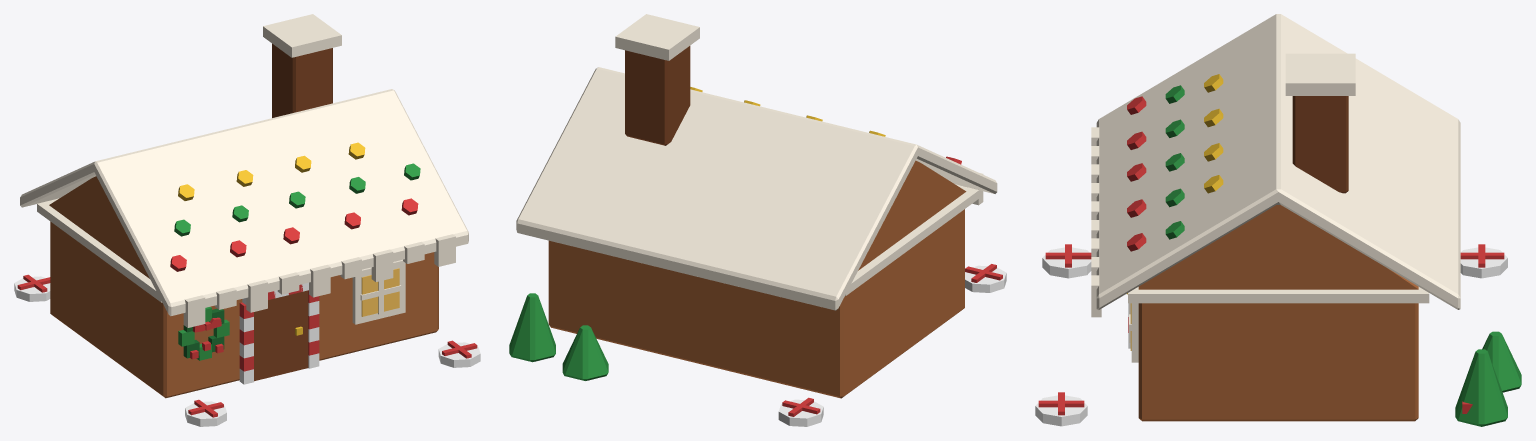
File: gingerbread-house-2x2.glb
The picture shows the model from 3 angles, left to right: view 1: azimuth 30°, elevation 25°; view 2: azimuth 150°, elevation 25°; view 3: azimuth 270°, elevation 25°; orthographic projection. The views are drawn at different scales.
Parts seen in each view (by area): view 1: gingerbread-house-2x2; view 2: gingerbread-house-2x2; view 3: gingerbread-house-2x2.
Part boxes in pixels (x1,y1,x2,y2): gingerbread-house-2x2: [14, 14, 480, 426]; gingerbread-house-2x2: [509, 14, 1006, 426]; gingerbread-house-2x2: [1035, 14, 1521, 426].
Bounding box in the file's own units: 1.55 × 1.3 × 1.8.
1 material, 1 textured.
